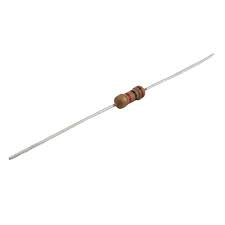resistor: (105, 71, 154, 129)
